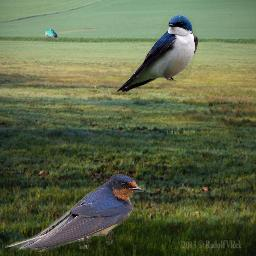Swallow: (5, 173, 144, 252), (116, 14, 198, 93)
